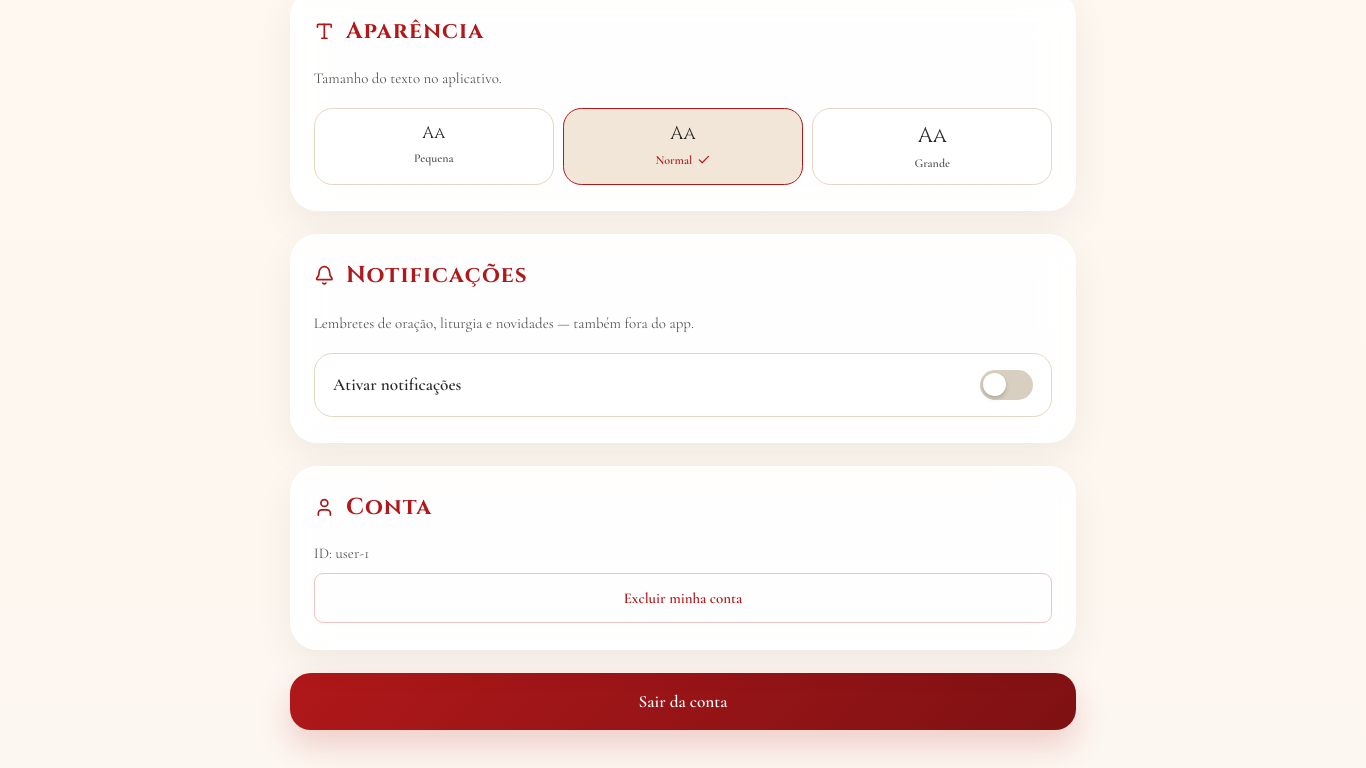
Test: Profile › shows an error message when enabling push is denied
(page scrolled)
Click the switch labelled "Ativar notificações" at (397, 385), box [314,353,1052,417]
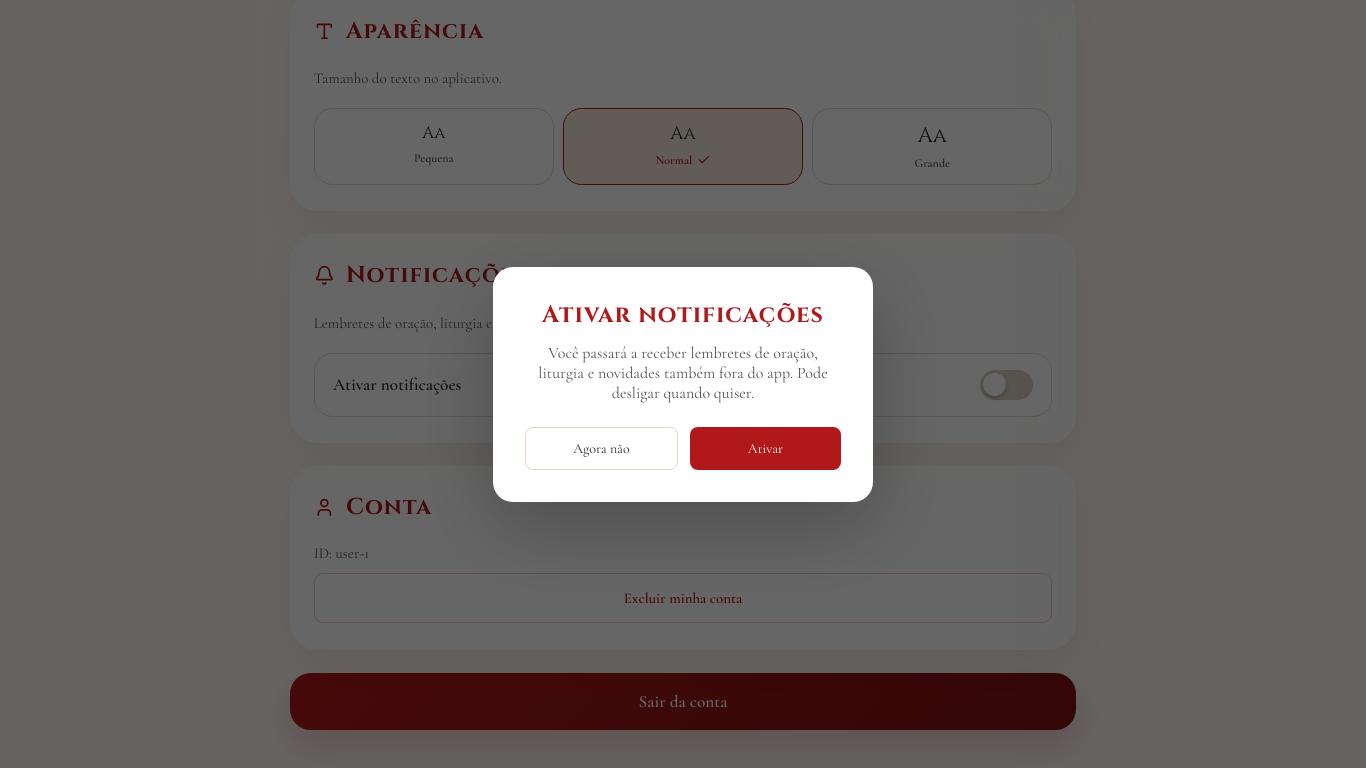
Click the button "Ativar" at (766, 448), box [690,426,841,470]
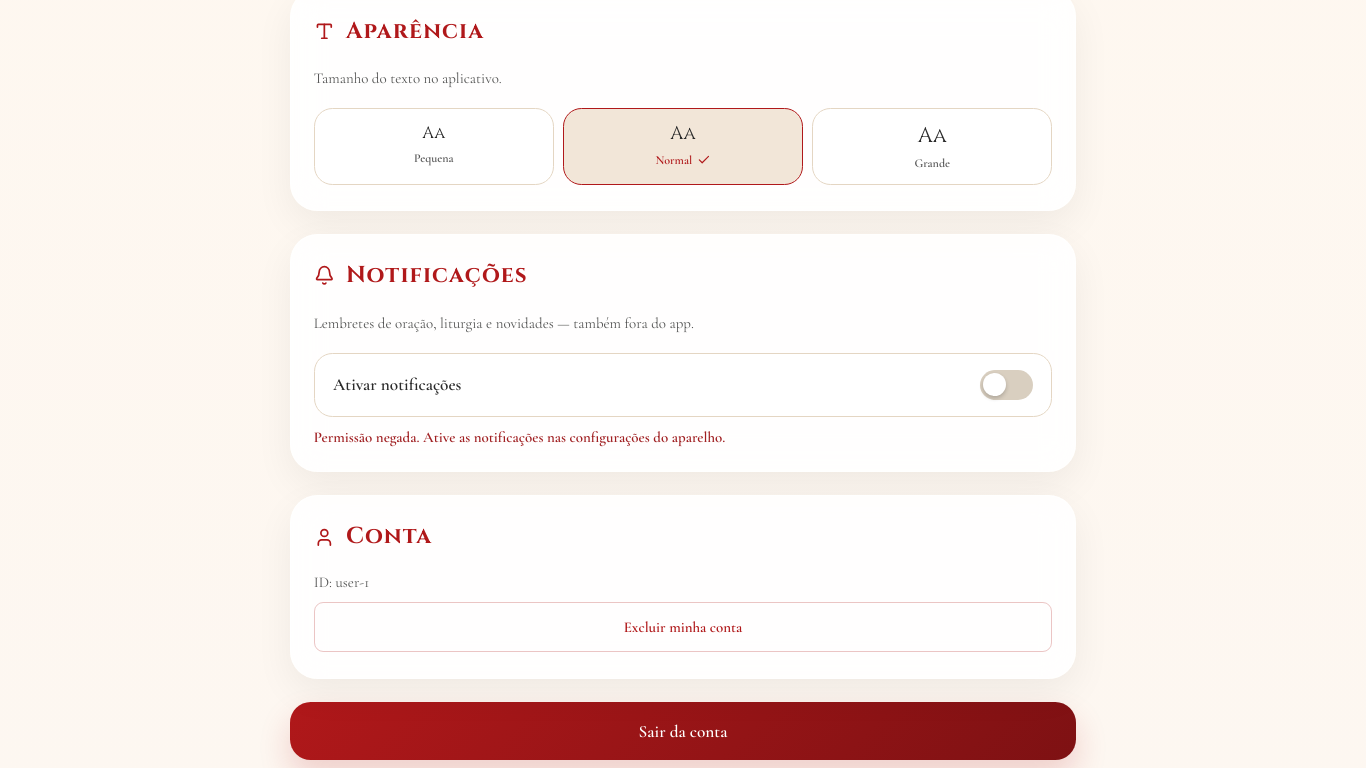
Now the text "Permissão negada" is shown, box [314,428,725,446]
